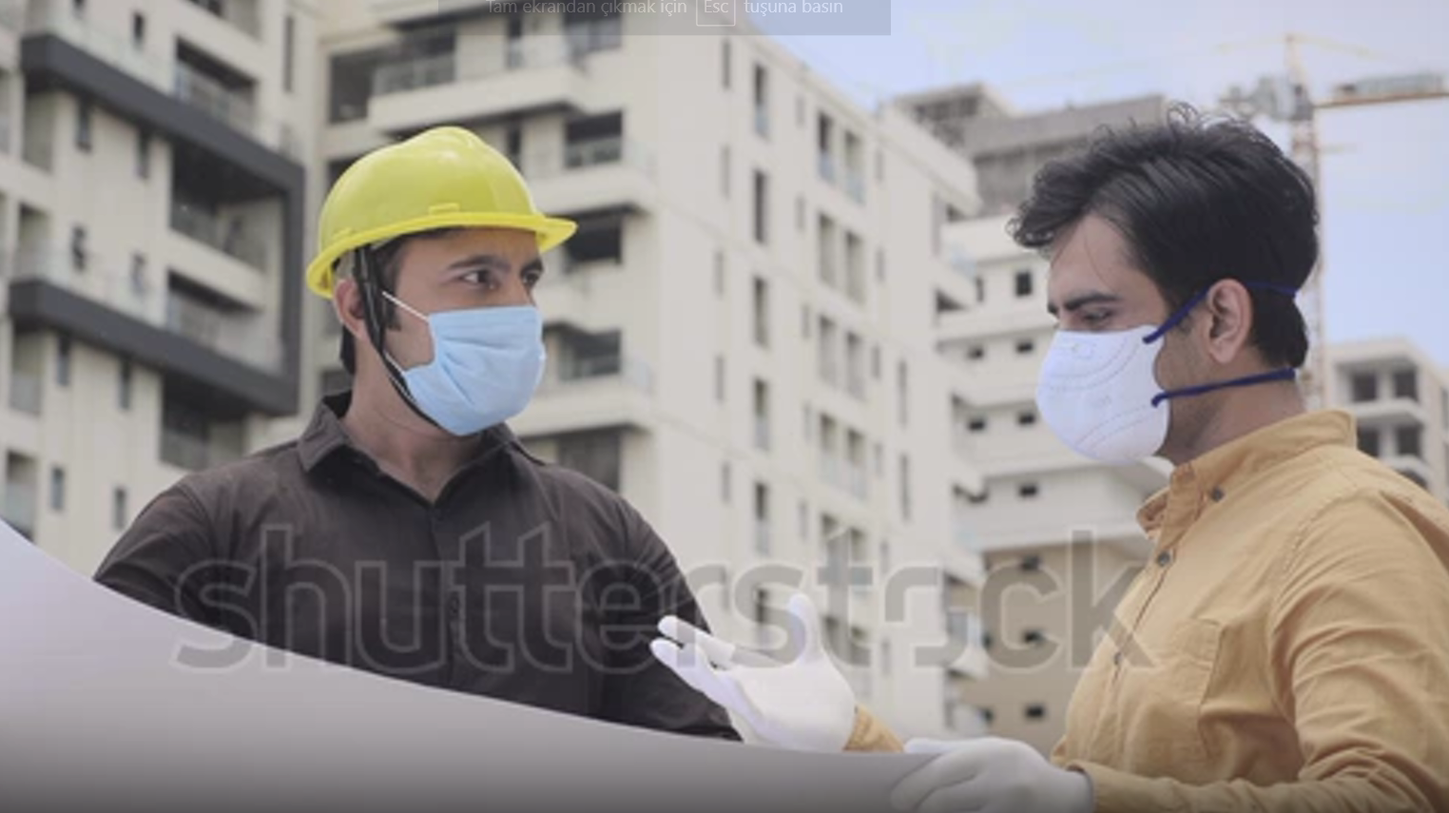safety_helmet: (304, 123, 578, 300)
